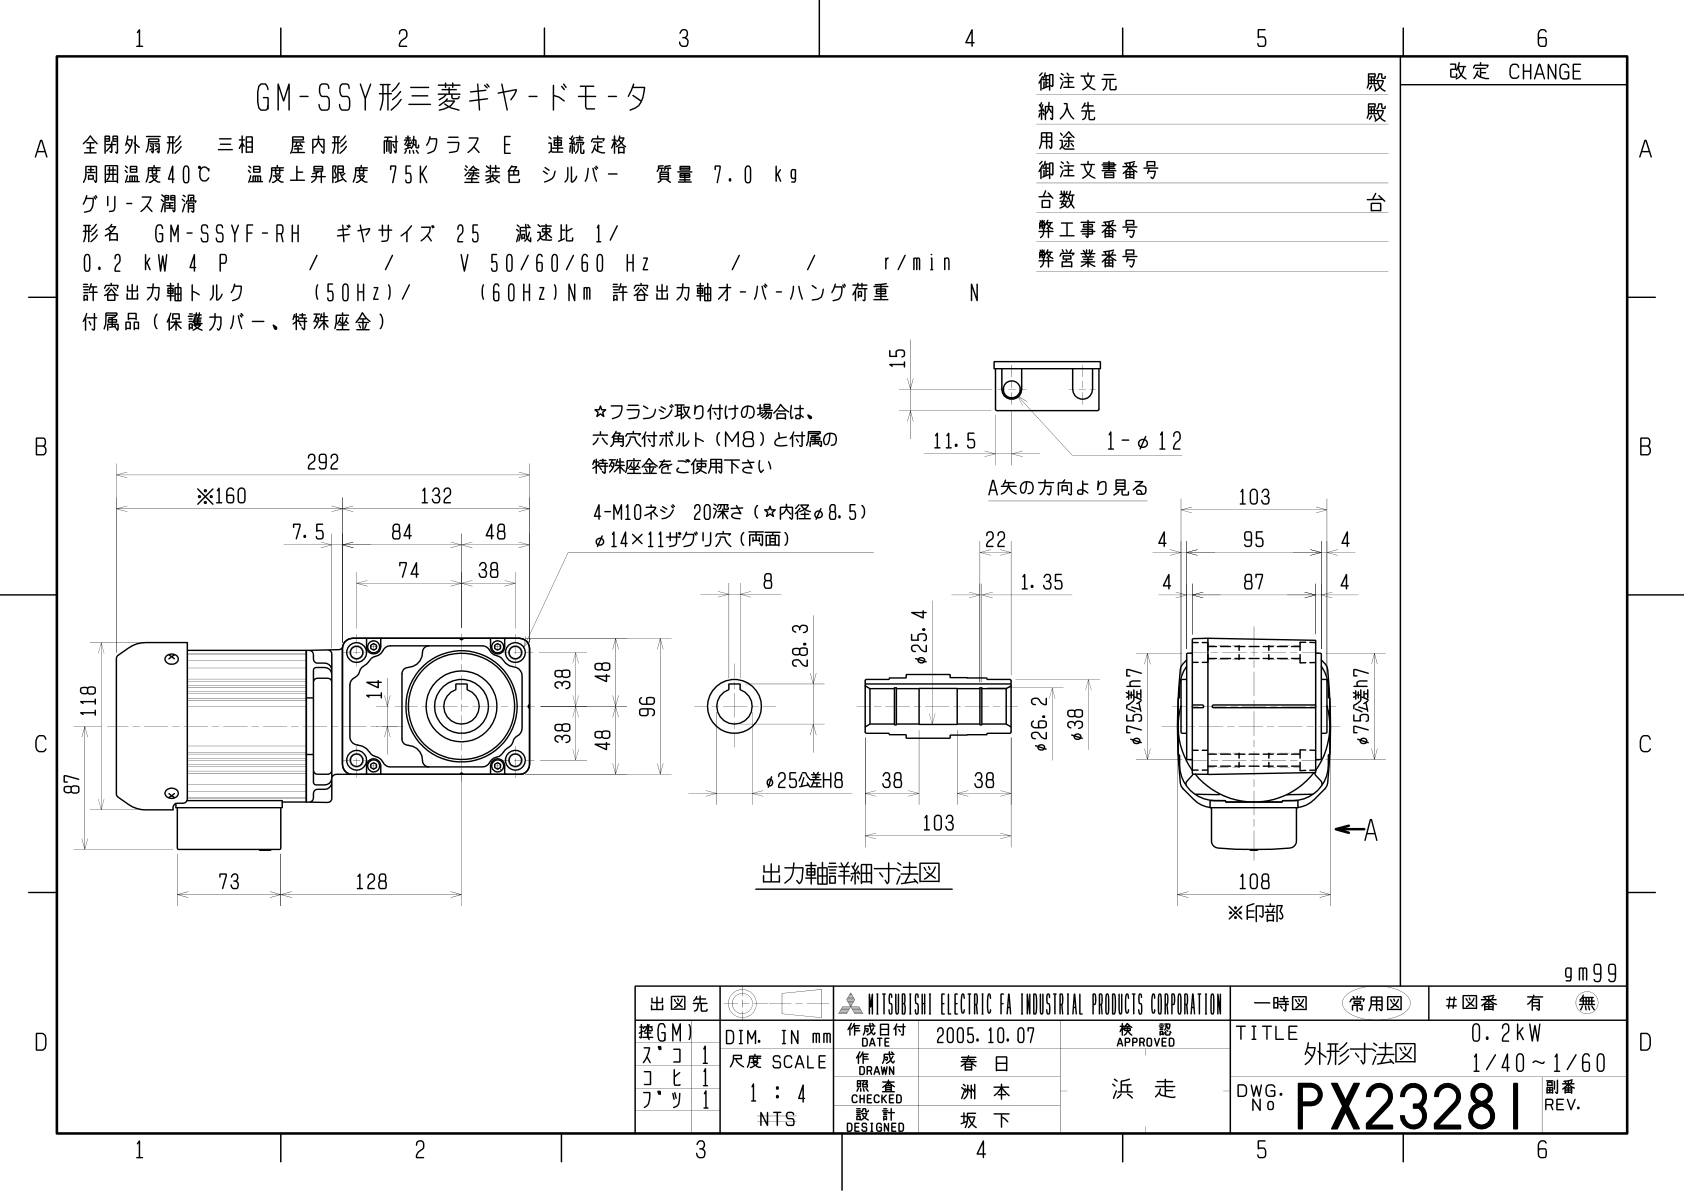GM_SSY_屋内_三相: (61, 349, 1395, 959)
